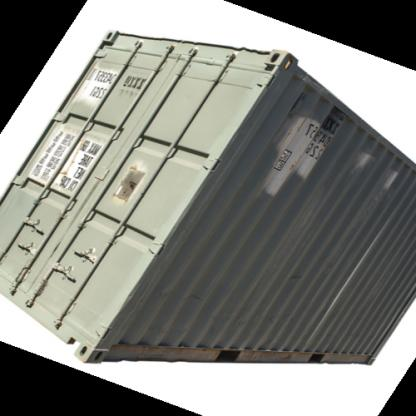Damage: (267, 111, 336, 197), (110, 160, 146, 202), (349, 142, 375, 178), (265, 264, 305, 284), (179, 286, 209, 307), (384, 170, 402, 202)
